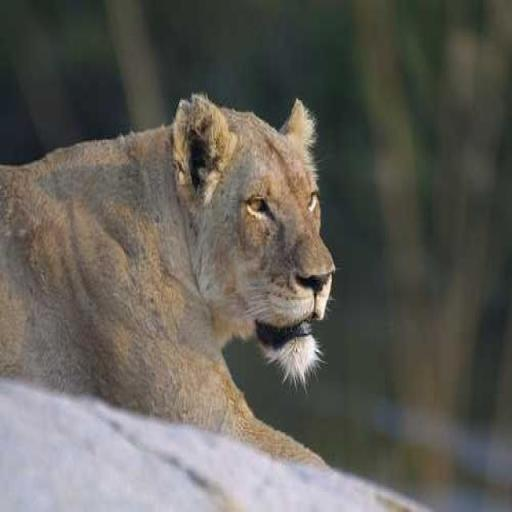Lion: (0, 91, 337, 472)
